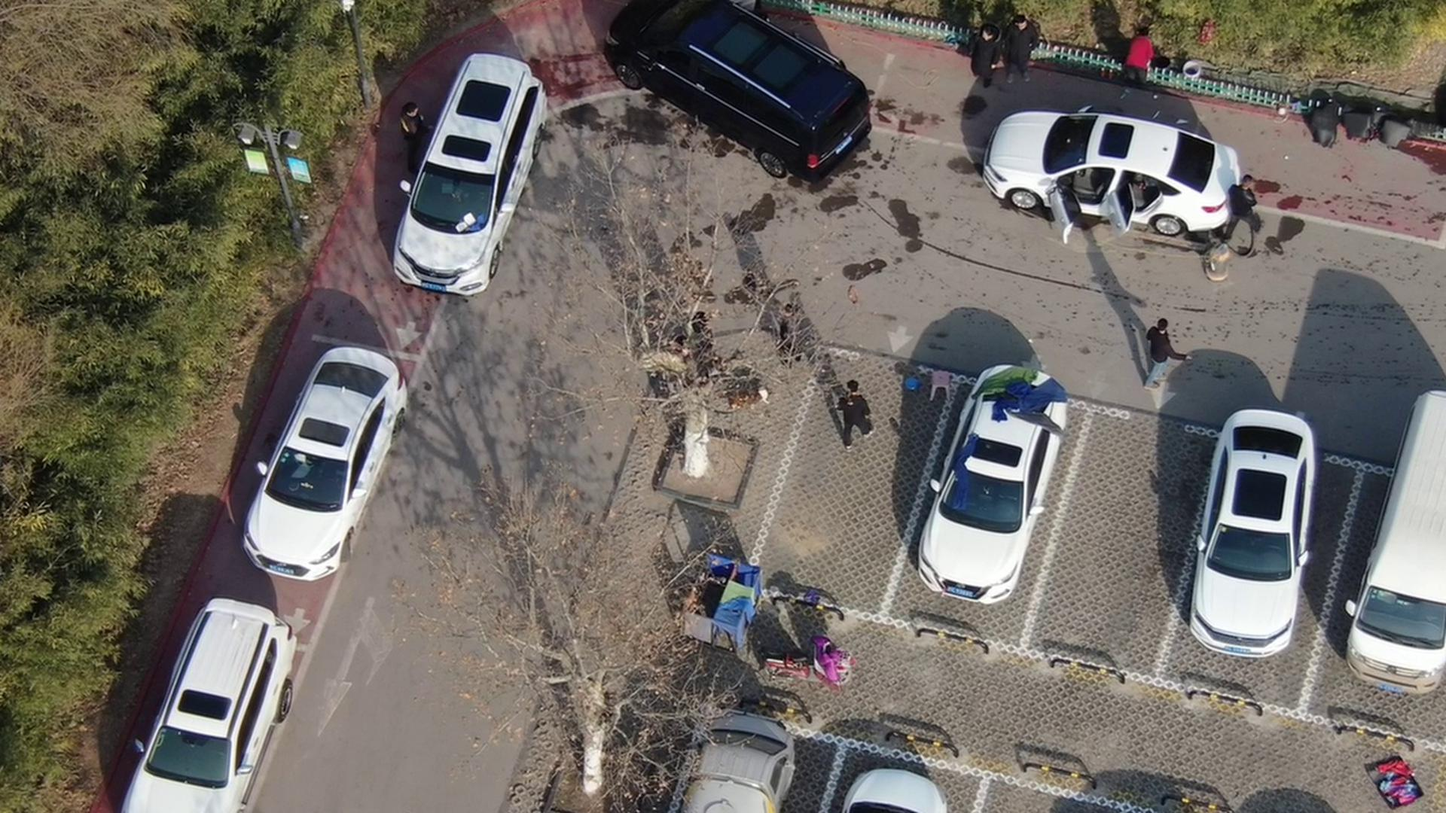human: (1214, 169, 1272, 256), (837, 378, 881, 452), (1143, 317, 1188, 388), (1011, 5, 1046, 84), (781, 300, 814, 376), (975, 17, 1011, 84), (1129, 20, 1162, 88), (407, 99, 435, 175)
